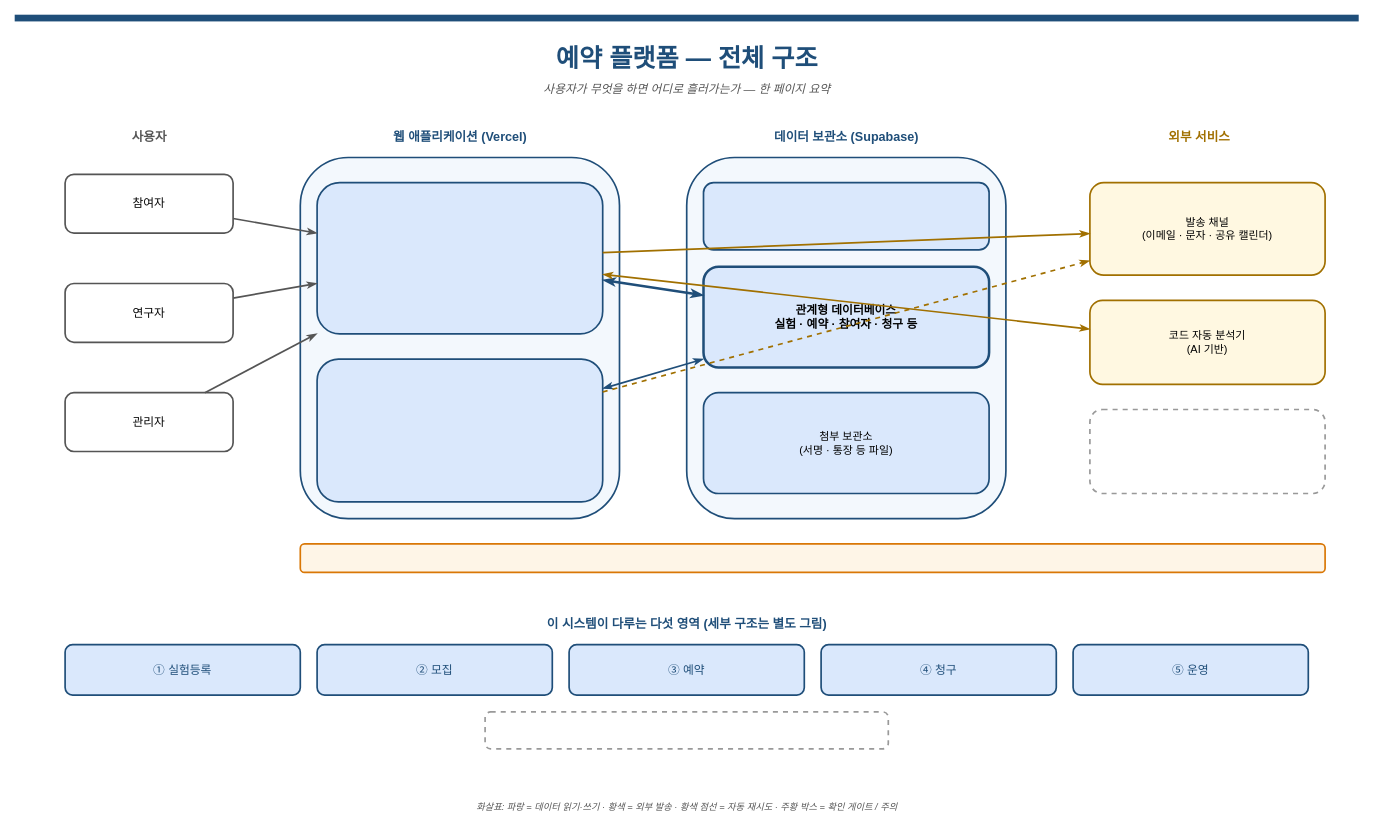
Image size: 1373x830. Some labels were removed from this diagram. Each missing label, with the centre of its shape:
(향후) 자연어 조회 — 미래 계획: point (686, 730)
외부 지식베이스 미러 (미완): point (1207, 451)
외부로 나가는 메시지는 연구자 확인을 거친 후에만 발송 (확인 게이트): point (812, 558)
웹 + 서버 함수 사용자가 보는 화면과 예약·등록·관리 처리: point (459, 257)
인증 (이메일 매직링크): point (846, 215)
정기 작업 시간 맞춰 자동 실행 (리마인더·재시도 등): point (459, 430)
